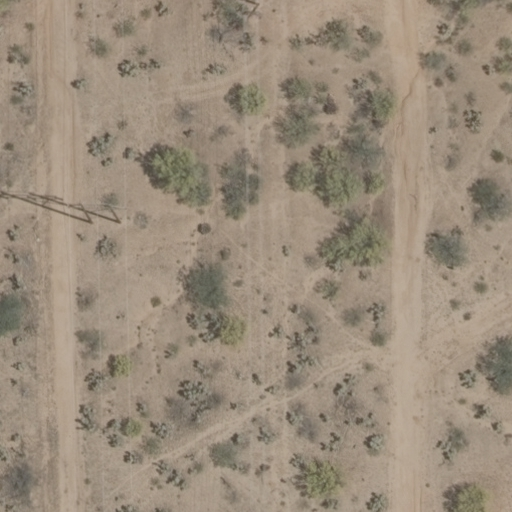DT: (59, 193, 136, 226)
